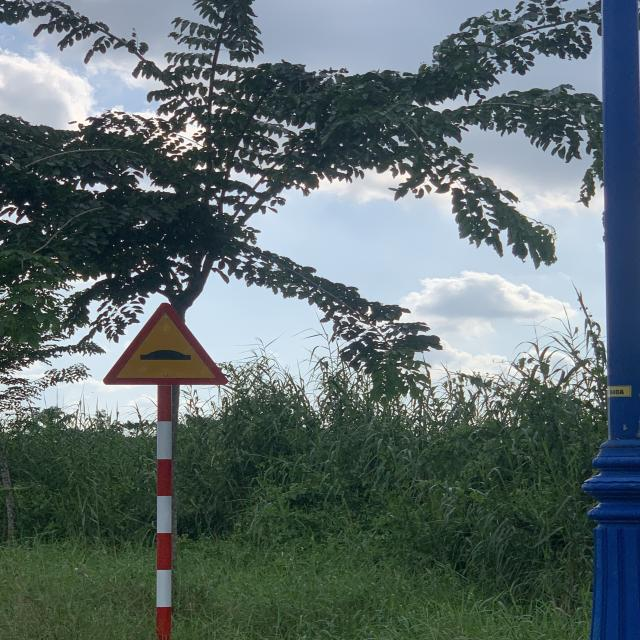Duong_Cong_Ben_Phai: (103, 302, 228, 386)
